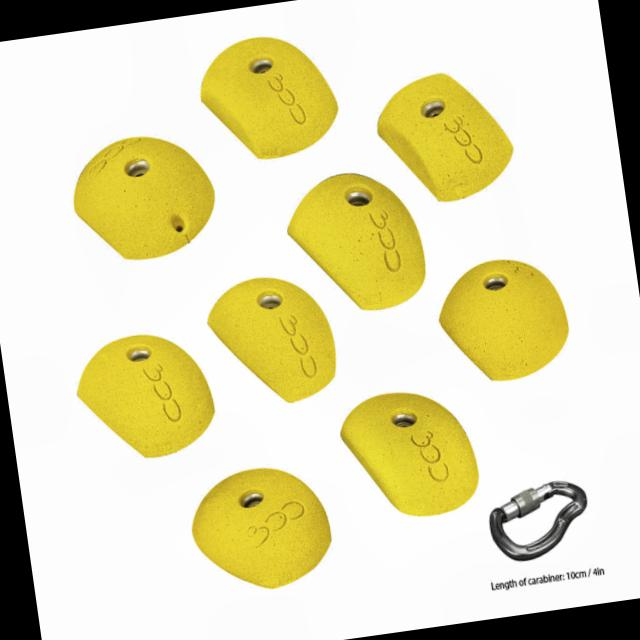Hold: (279, 166, 434, 322), (65, 124, 222, 271), (70, 324, 224, 472), (184, 464, 344, 602), (371, 61, 520, 206), (196, 30, 350, 170), (200, 270, 352, 408), (336, 386, 486, 524), (430, 248, 577, 388)
